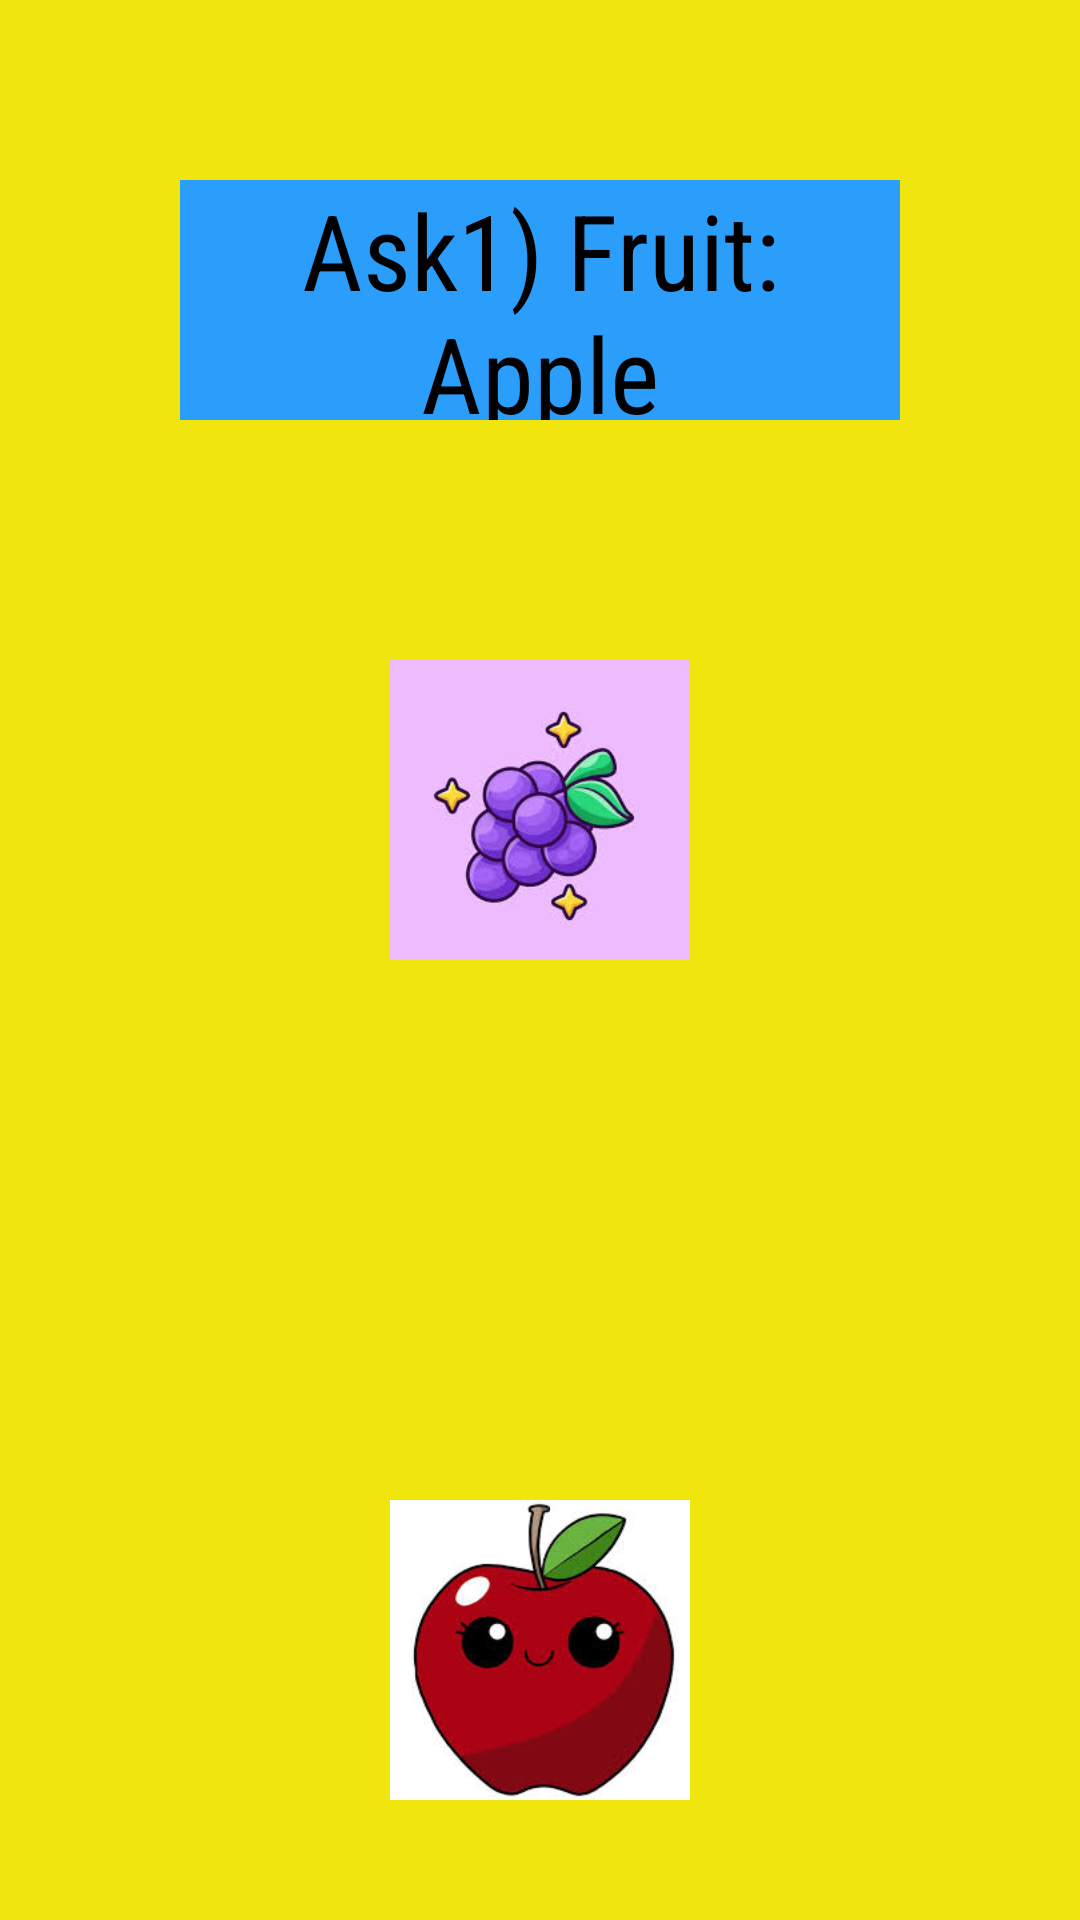

Where to tap for icons on this 1080px×1920px app screen, as [x,y]:
manzana pregunta: [540,1650]
uva pregunta: [540,810]
